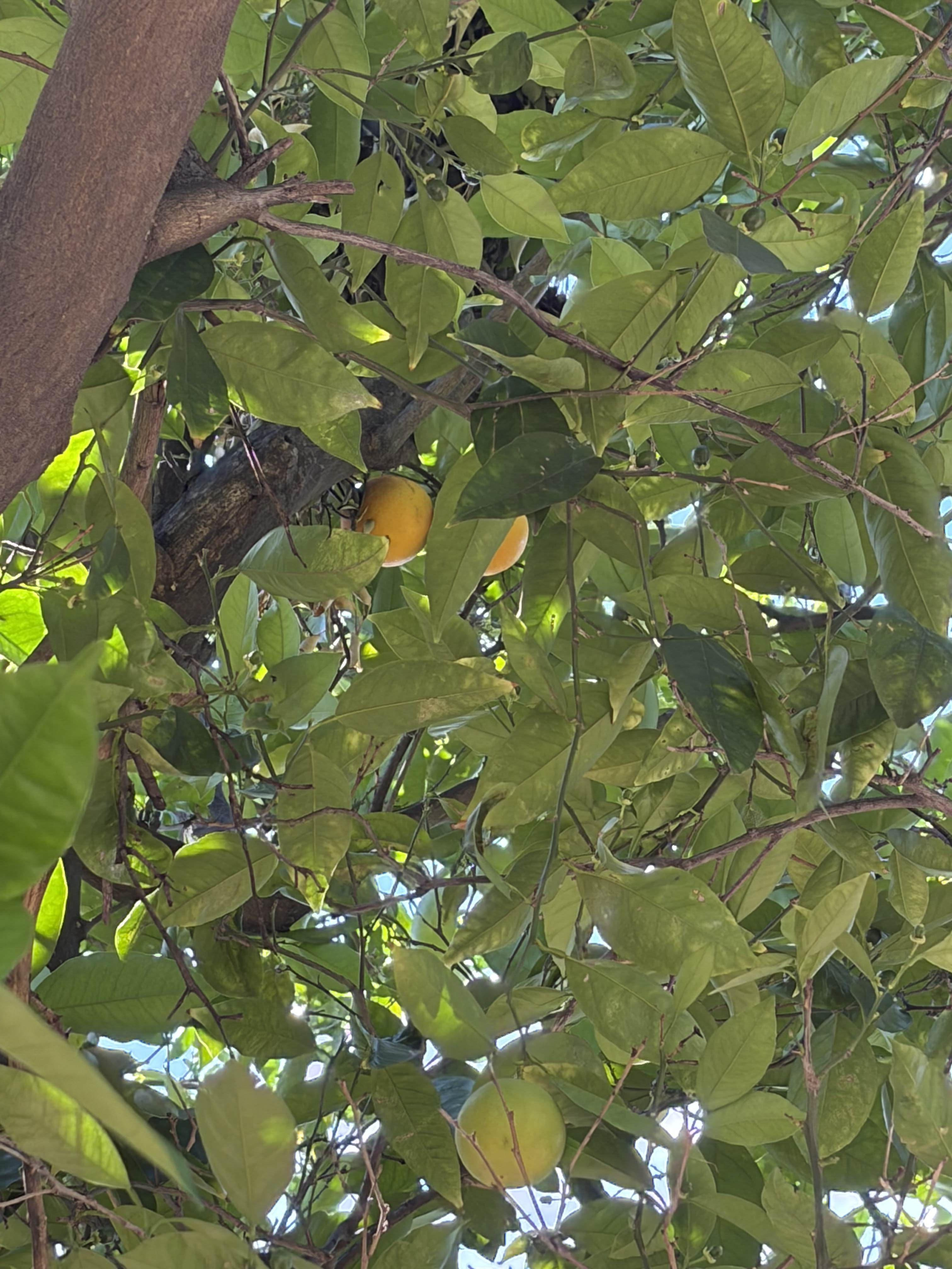orange: (456, 1077, 567, 1188), (342, 474, 434, 567), (482, 514, 530, 576)
